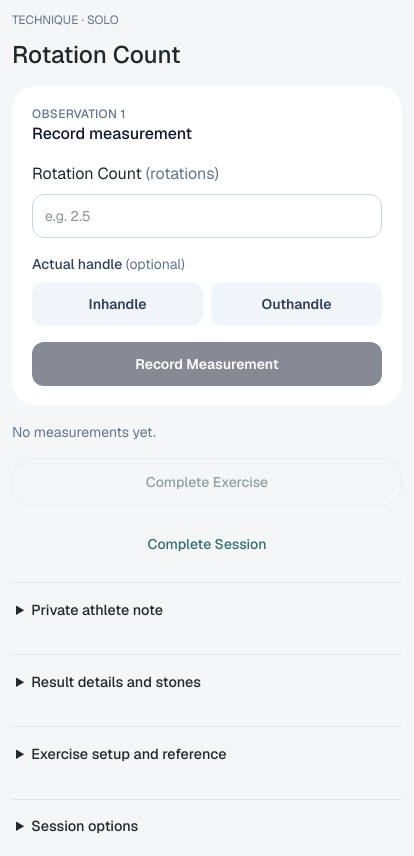
ExerciseSoloExecutionScreen › retains the measurement draft while the measured exercise note is open
In the number field labelled "Rotation Count(rotations)": (207, 216) [32,194,382,238], type "3.5"
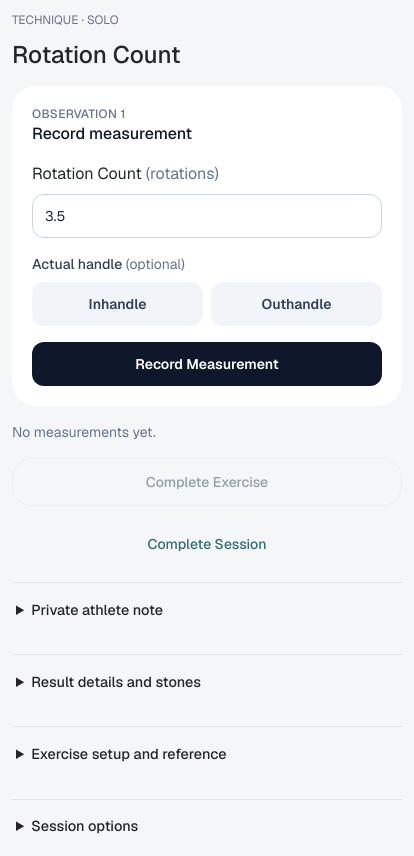
Click the heading "Private athlete note": (97, 610) [31,601,163,619]
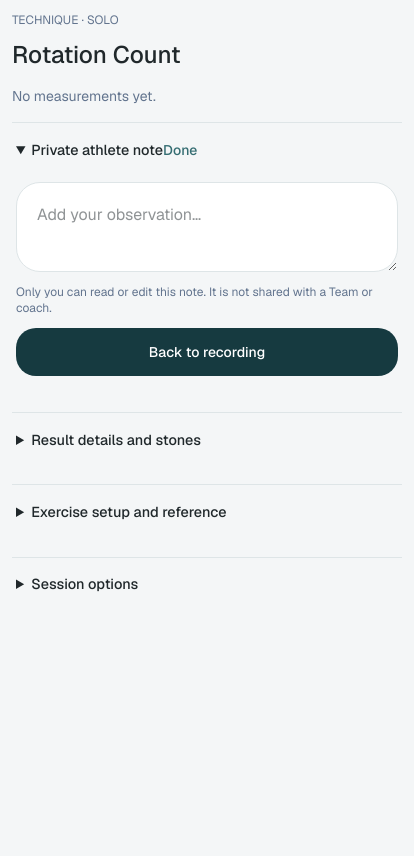
Expected: the button "Back to recording" is shown
Click the button "Back to recording": (207, 352) [16,328,398,376]
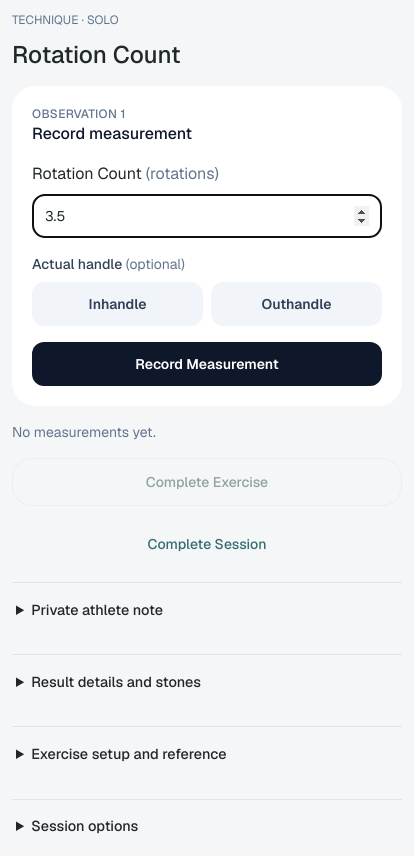
Expected: the button "Record Measurement" is shown, [32,342,382,386]
Expected: the button "Complete Exercise" is disabled, [12,458,402,506]
